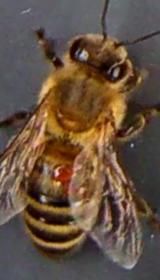varroa_mite: (48, 156, 74, 188)
